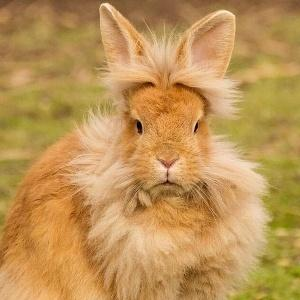rabbit: (0, 4, 269, 300)
